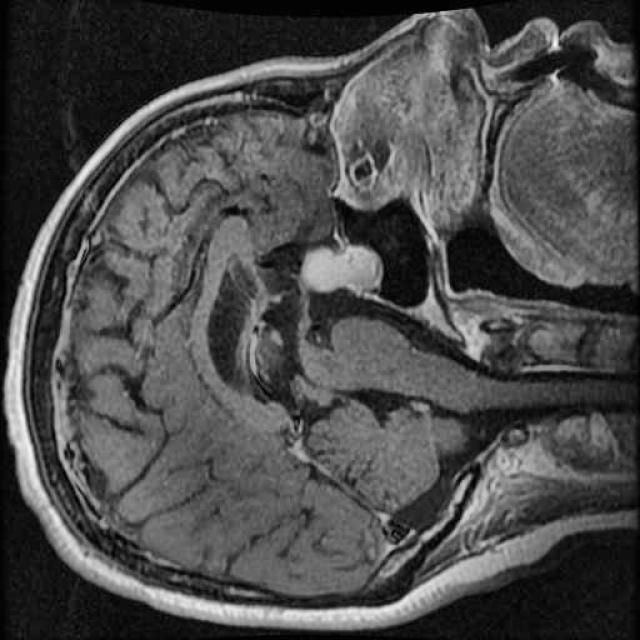Tumor: (291, 230, 395, 308)
